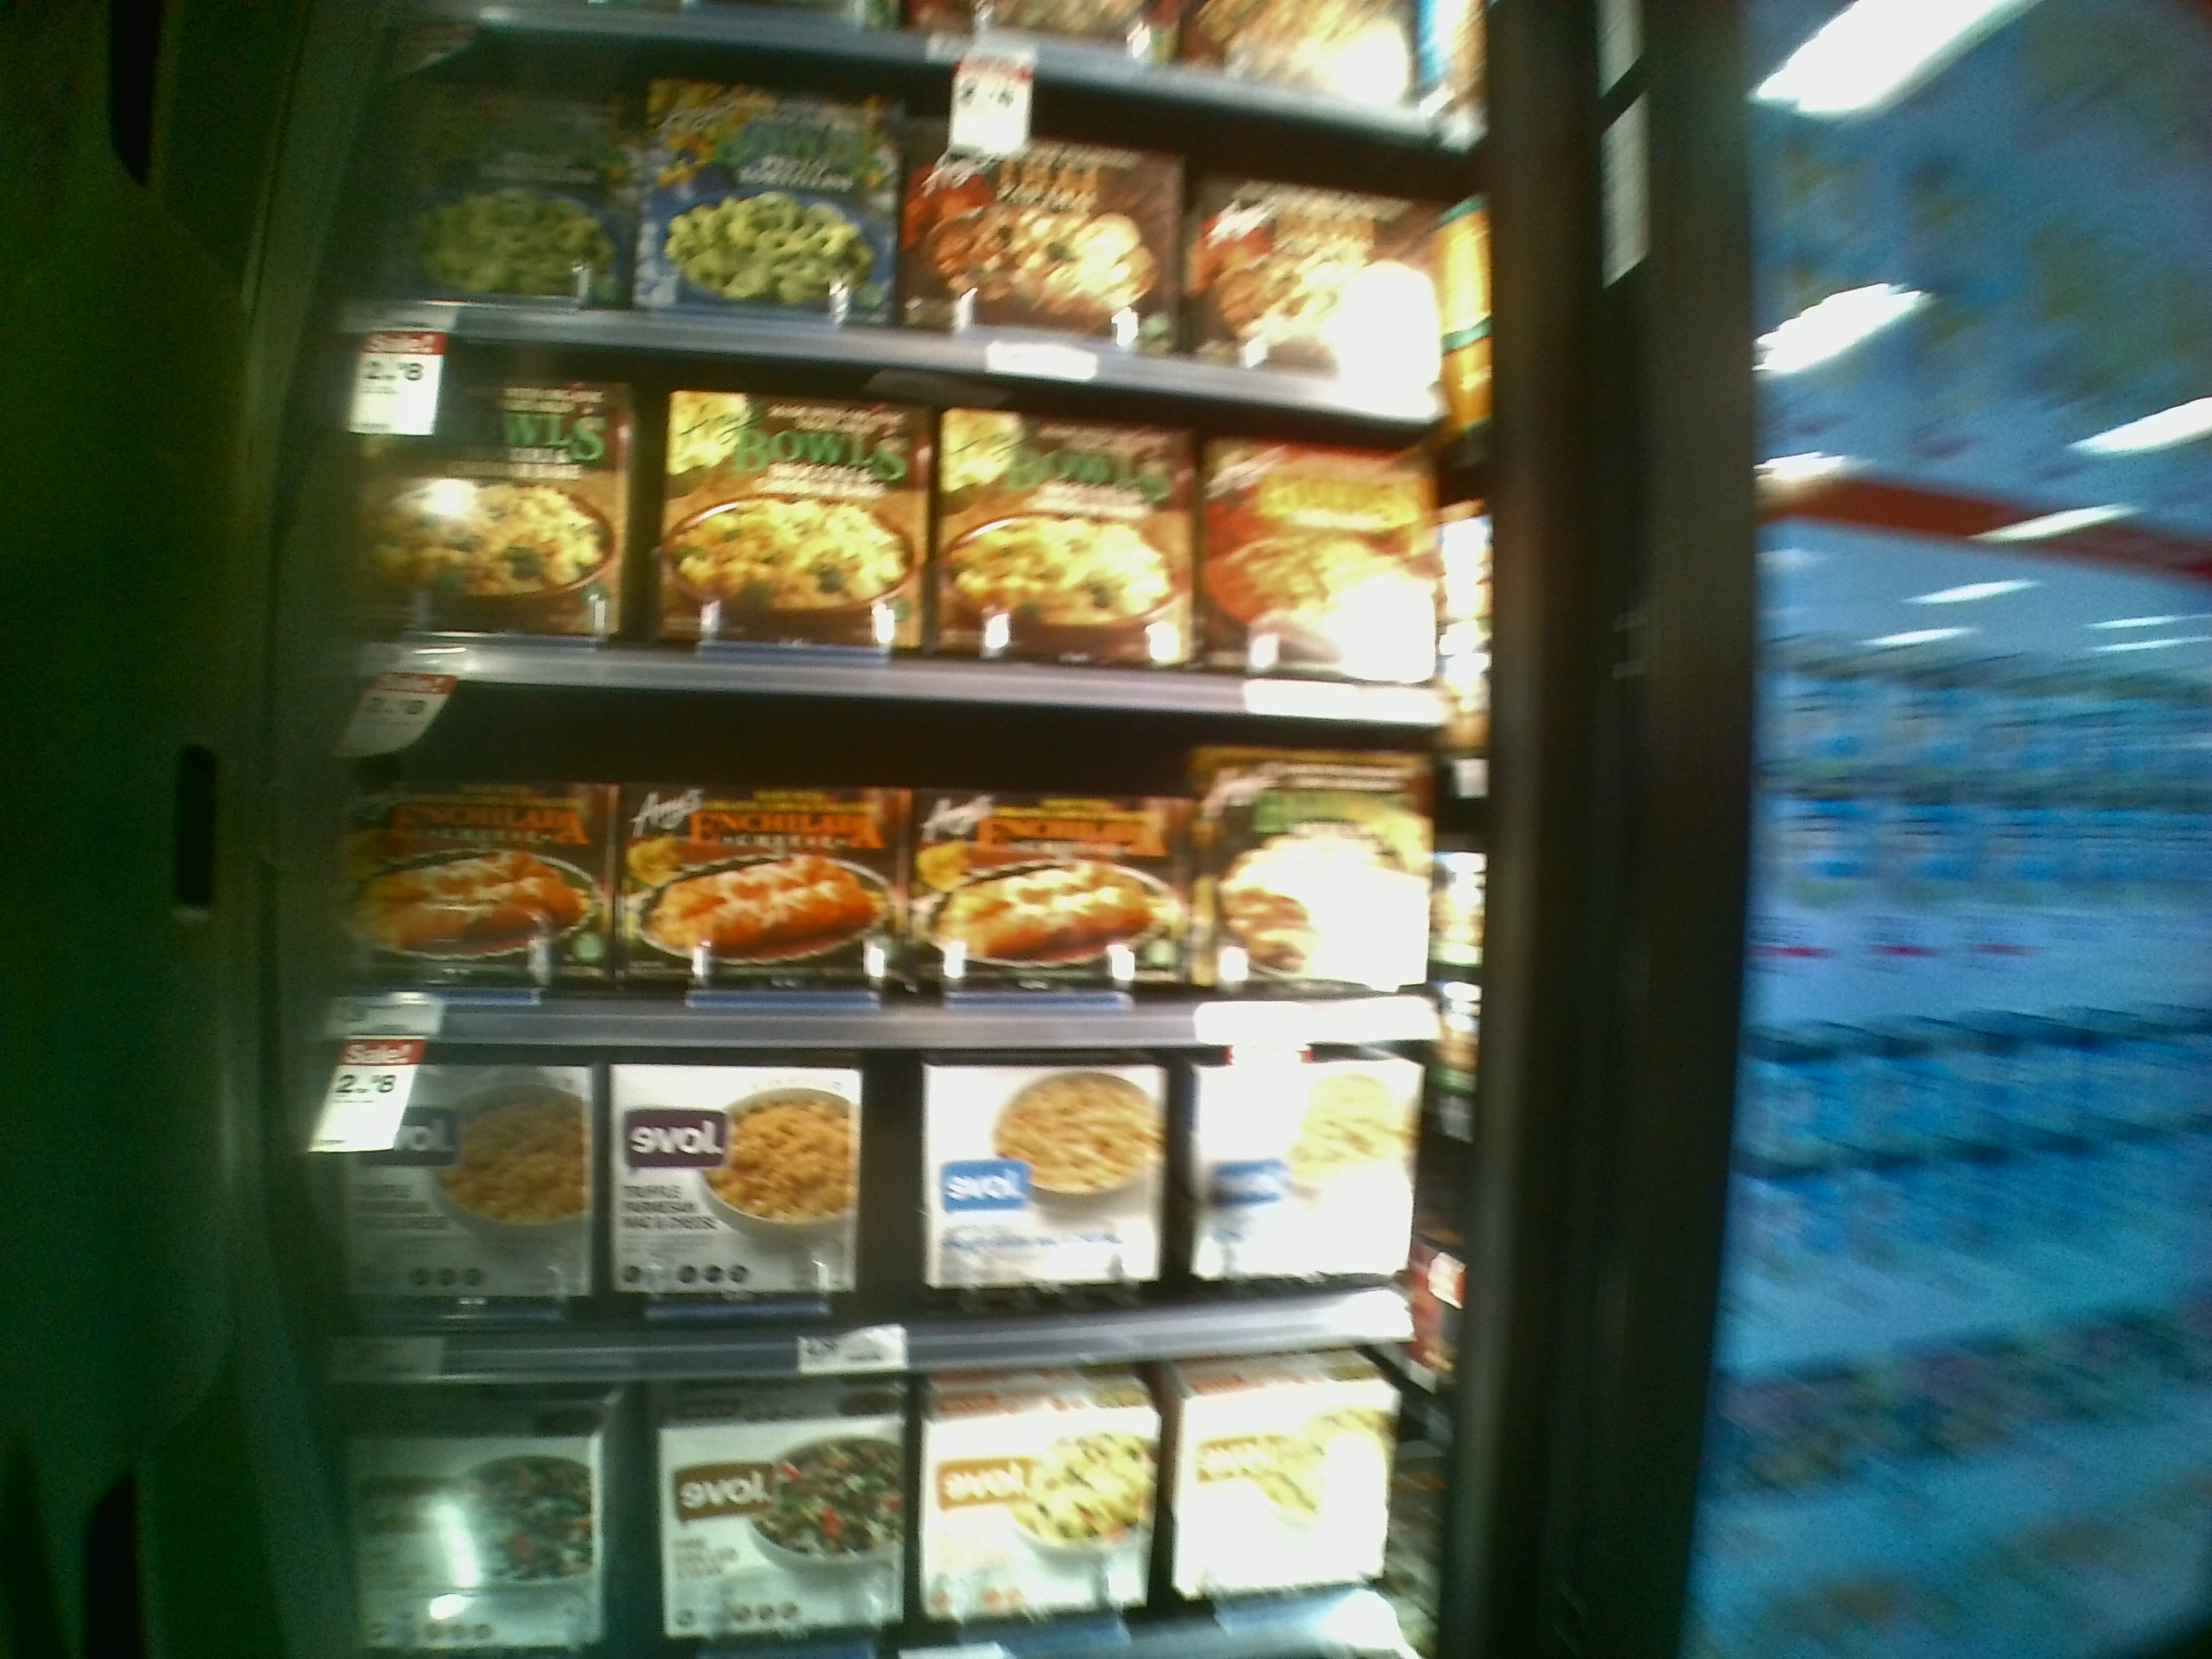shelf: (336, 695, 1449, 1049), (336, 1053, 1437, 1382), (340, 380, 1475, 695), (366, 68, 1474, 389), (336, 1368, 1420, 1659)
